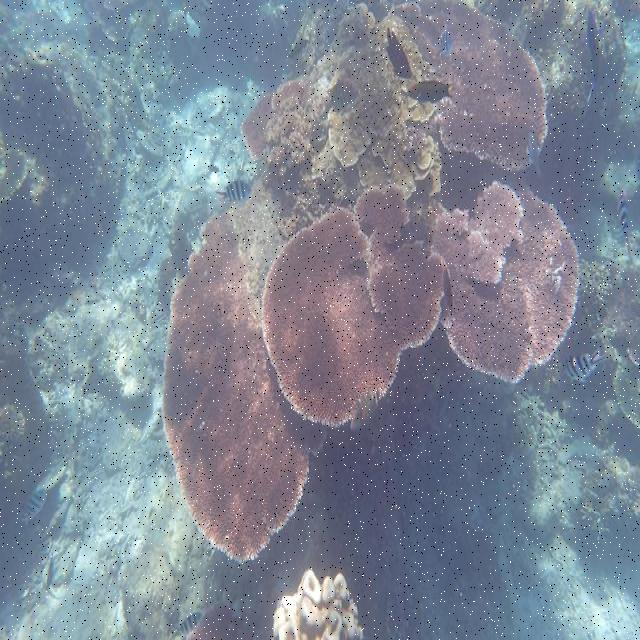fish: (407, 81, 454, 102), (327, 81, 359, 110)
reefs: (162, 212, 329, 564), (261, 183, 447, 427), (430, 180, 579, 382), (391, 2, 547, 172)
